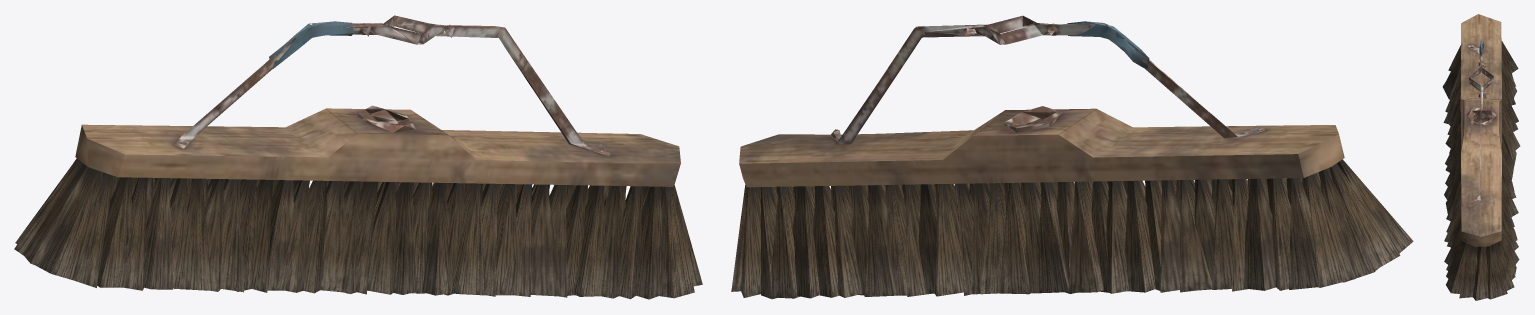
Rendered from wooden_broom.glb.
3 renders of one model, left to right at view 1: azimuth 30°, elevation 25°; view 2: azimuth 150°, elevation 25°; view 3: azimuth 270°, elevation 25°, orthographic. The views are drawn at different scales.
Visible parts, largest first — view 1: wooden_broom; view 2: wooden_broom; view 3: wooden_broom.
Boxes of the visible parts, left/top/right/bottom form: wooden_broom: left=14, top=15, right=702, bottom=299; wooden_broom: left=731, top=15, right=1413, bottom=299; wooden_broom: left=1442, top=14, right=1520, bottom=300.
Bounding box in the file's own units: 0.4484 × 0.2198 × 0.0917.
1 material, 1 textured.
